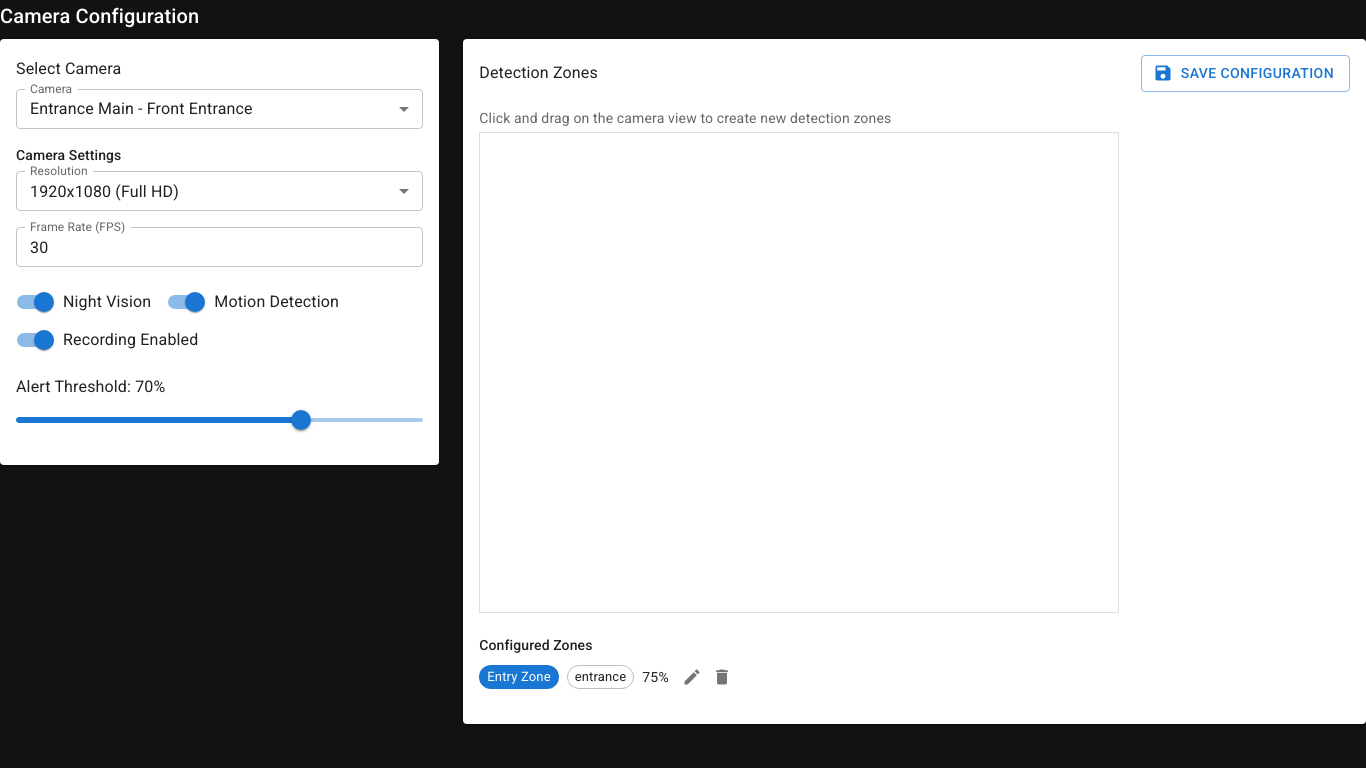
Test case: CameraConfiguration Component › can adjust alert threshold
Set the slider to "80": [301, 420] box [291,410,311,430]
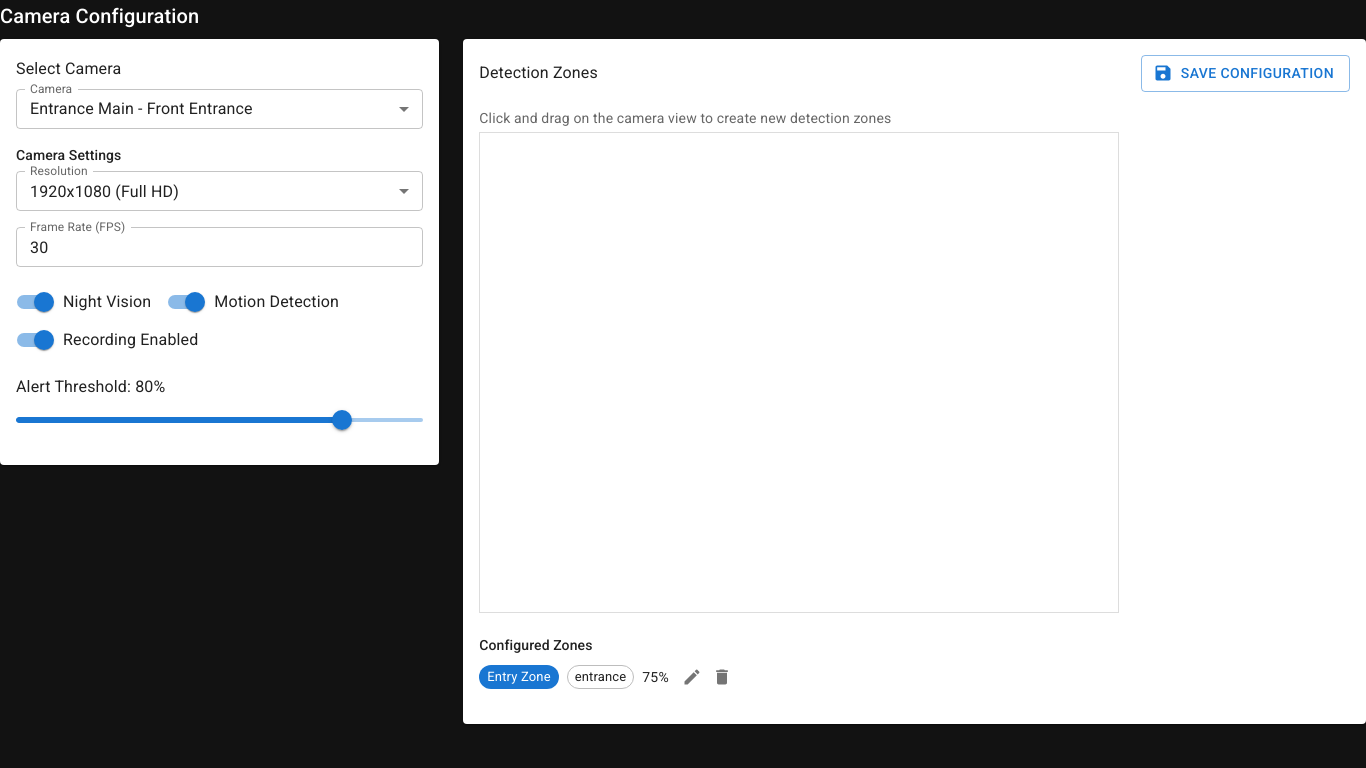
Now the text "Alert Threshold: 80%" is shown, box [16,378,165,396]
